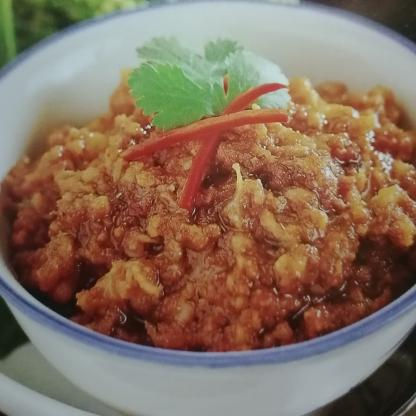Namprig: (0, 28, 415, 389)
